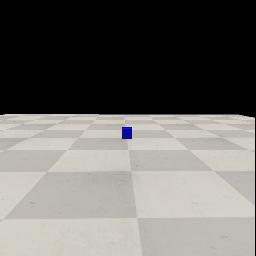box: (122, 127, 132, 139)
